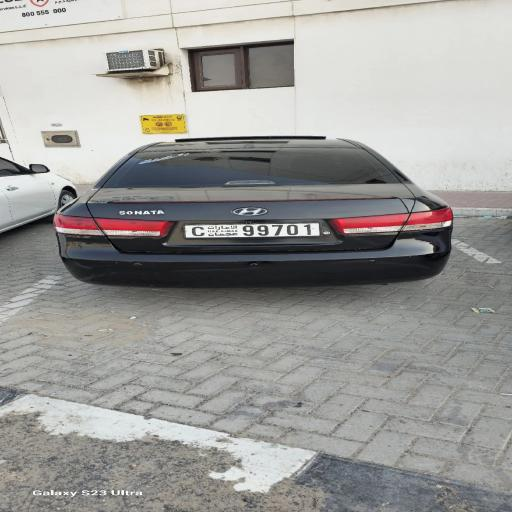license-plates: (184, 223, 321, 238)
